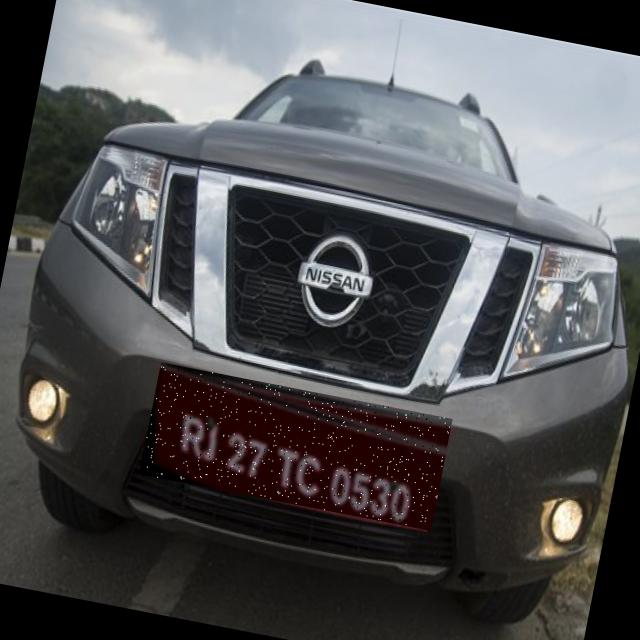Plate: (141, 363, 454, 532)
